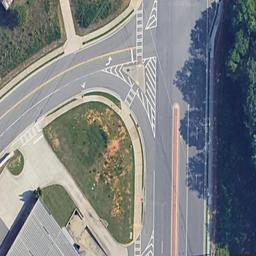Chevron: (108, 62, 157, 137), (143, 1, 159, 31), (143, 233, 155, 256)
Crosswalk: (123, 84, 139, 107), (134, 232, 141, 256)
Double Solid Yellow Line: (1, 46, 135, 115)
Left Turn Arrow: (105, 55, 112, 67)
Solid White Line: (1, 68, 104, 136), (151, 168, 155, 234), (187, 103, 188, 256)
Stopline: (135, 9, 144, 62), (131, 50, 135, 60)
White Dashed Line: (194, 124, 198, 188)
